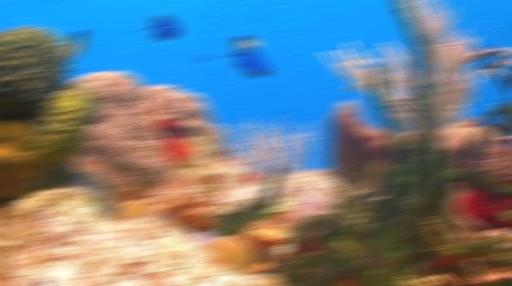Fish: (226, 49, 269, 77), (145, 14, 180, 41), (64, 30, 85, 62), (189, 231, 218, 245), (233, 35, 258, 50), (240, 170, 259, 185), (196, 51, 211, 62), (346, 83, 361, 90)
